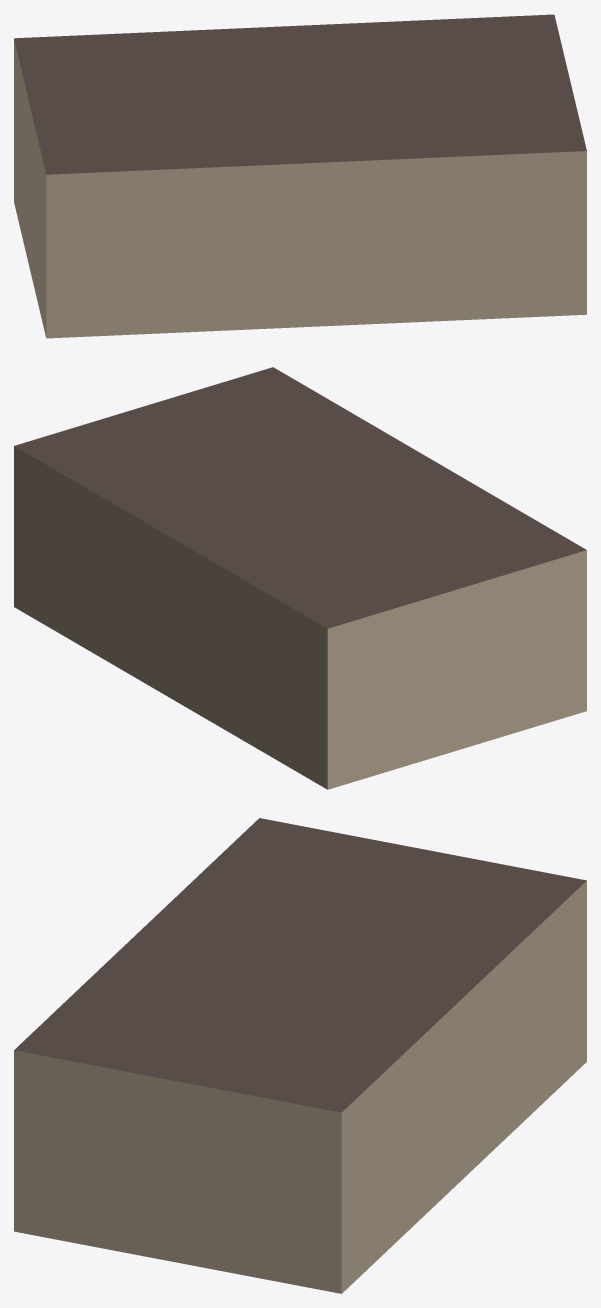
3 views of the same model, one above another, from view 1: azimuth 30°, elevation 25°; view 2: azimuth 150°, elevation 25°; view 3: azimuth 270°, elevation 25° (orthographic). The views are drawn at different scales.
Parts seen in each view (by area): view 1: HP-w859082561; view 2: HP-w859082561; view 3: HP-w859082561.
Boxes of the visible parts, x1,y1,x2,y2 form: HP-w859082561: (14, 14, 586, 338); HP-w859082561: (14, 367, 586, 789); HP-w859082561: (14, 818, 586, 1293).
Bounding box in the file's own units: 31.37 × 9 × 25.78.
